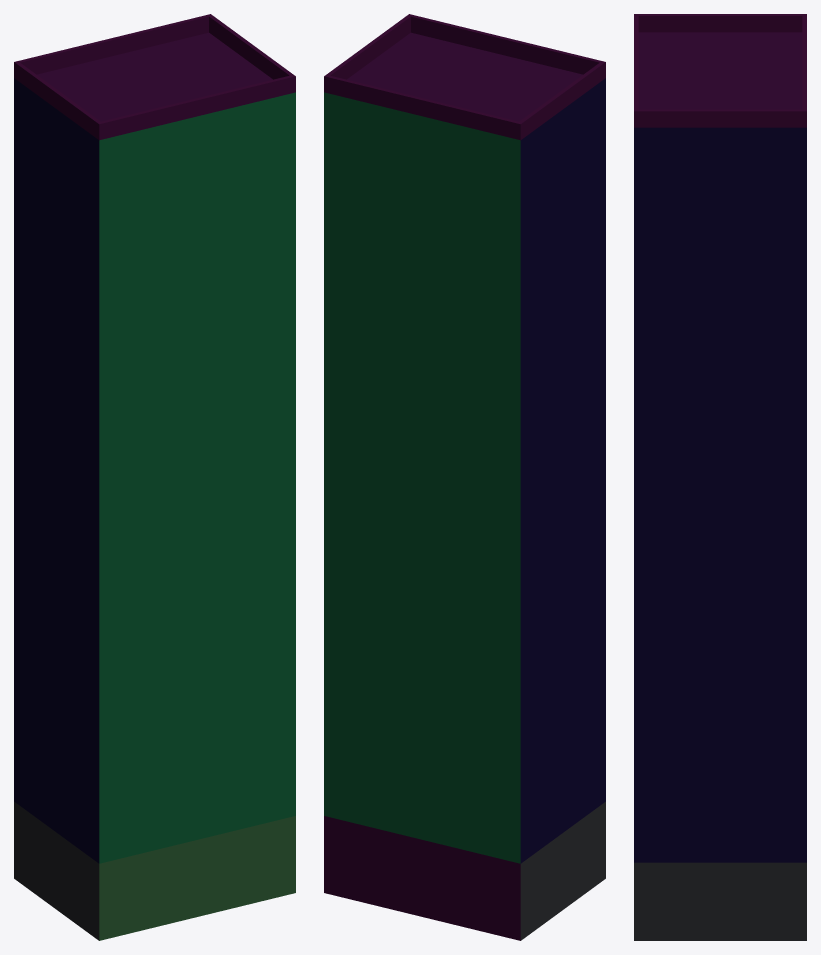
The model's file is slab_h.lod2.glb.
3 renders of one model, left to right at view 1: azimuth 30°, elevation 25°; view 2: azimuth 150°, elevation 25°; view 3: azimuth 270°, elevation 25°, orthographic.
Visible parts, largest first — view 1: slab_h.lod2; view 2: slab_h.lod2; view 3: slab_h.lod2.
Part boxes in pixels (x1,y1,x2,y2): slab_h.lod2: [14, 14, 295, 940]; slab_h.lod2: [324, 14, 605, 940]; slab_h.lod2: [634, 14, 806, 940].
Size of the model in its own units: 12.8 by 50.8 by 9.6.
